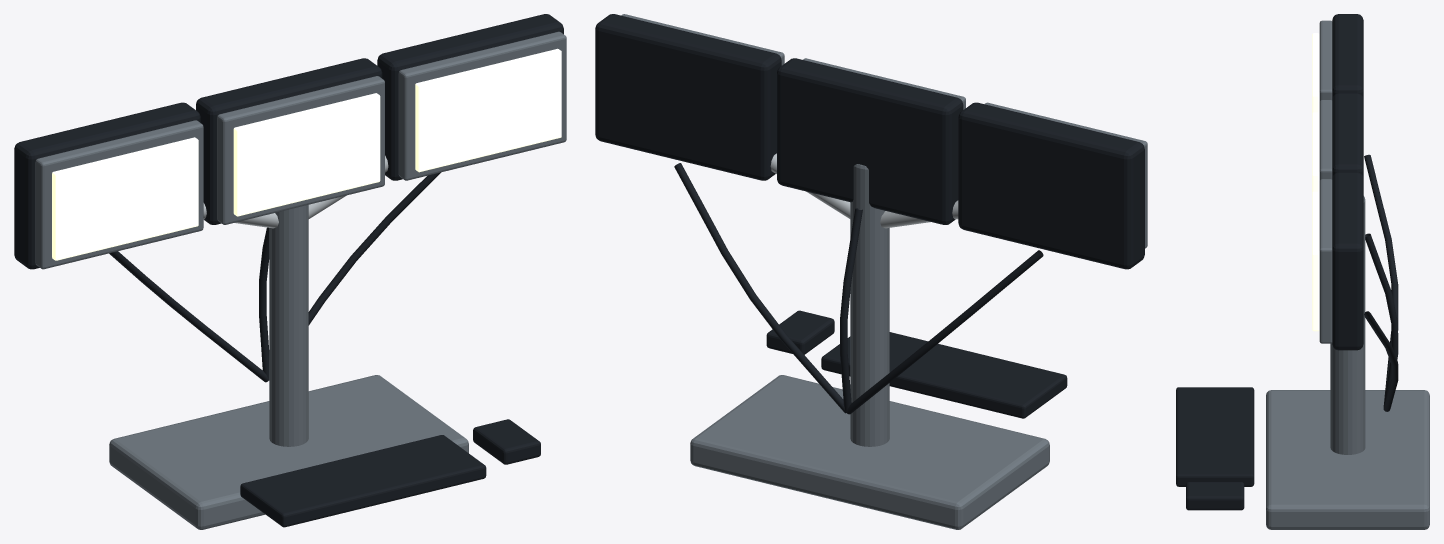
The model's file is prop_casino_security_monitor_wall_a_v01.glb.
The picture shows the model from 3 angles, left to right: view 1: azimuth 30°, elevation 25°; view 2: azimuth 150°, elevation 25°; view 3: azimuth 270°, elevation 25°; orthographic projection. The views are drawn at different scales.
Parts seen in each view (by area): view 1: component__desk_or_mounting_base__mounting_base, component__multiple_displays__display.002, component__multiple_displays__display.001, component__multiple_displays__display, component__input_devices__keyboard, component__monitor_arms__central_monitor_post, component__rear_housings__rear_housing.001, component__bezels__display_bezel, component__bezels__display_bezel.001, component__bezels__display_bezel.002, component__rear_housings__rear_housing, component__rear_housings__rear_housing.002 (+4 smaller); view 2: component__desk_or_mounting_base__mounting_base, component__rear_housings__rear_housing.001, component__rear_housings__rear_housing, component__rear_housings__rear_housing.002, component__monitor_arms__central_monitor_post, component__input_devices__keyboard, component__cables__monitor_cable, component__cables__monitor_cable.001, component__input_devices__mouse, component__cables__monitor_cable.002, component__bezels__display_bezel.001; view 3: component__desk_or_mounting_base__mounting_base, component__input_devices__keyboard, component__rear_housings__rear_housing, component__monitor_arms__central_monitor_post, component__rear_housings__rear_housing.002, component__rear_housings__rear_housing.001, component__bezels__display_bezel, component__input_devices__mouse, component__cables__monitor_cable.001, component__multiple_displays__display, component__bezels__display_bezel.001, component__bezels__display_bezel.002 (+4 smaller).
Part boxes in pixels (bbox=[...]): component__desk_or_mounting_base__mounting_base: bbox=[109, 375, 468, 529]; component__multiple_displays__display.002: bbox=[233, 93, 380, 216]; component__multiple_displays__display.001: bbox=[52, 137, 198, 260]; component__multiple_displays__display: bbox=[415, 48, 561, 172]; component__input_devices__keyboard: bbox=[240, 435, 486, 527]; component__monitor_arms__central_monitor_post: bbox=[269, 205, 308, 446]; component__rear_housings__rear_housing.001: bbox=[14, 102, 200, 269]; component__bezels__display_bezel: bbox=[398, 31, 566, 180]; component__bezels__display_bezel.001: bbox=[35, 120, 203, 269]; component__bezels__display_bezel.002: bbox=[217, 76, 384, 224]; component__rear_housings__rear_housing: bbox=[377, 14, 563, 180]; component__rear_housings__rear_housing.002: bbox=[196, 58, 382, 224]; component__desk_or_mounting_base__mounting_base: bbox=[690, 375, 1049, 529]; component__rear_housings__rear_housing.001: bbox=[958, 102, 1144, 269]; component__rear_housings__rear_housing: bbox=[595, 14, 781, 180]; component__rear_housings__rear_housing.002: bbox=[777, 58, 963, 224]; component__monitor_arms__central_monitor_post: bbox=[850, 164, 889, 446]; component__input_devices__keyboard: bbox=[821, 332, 1067, 418]; component__cables__monitor_cable: bbox=[674, 163, 846, 413]; component__cables__monitor_cable.001: bbox=[846, 250, 1043, 414]; component__input_devices__mouse: bbox=[766, 310, 834, 354]; component__cables__monitor_cable.002: bbox=[840, 208, 862, 412]; component__bezels__display_bezel.001: bbox=[984, 102, 1147, 248]; component__desk_or_mounting_base__mounting_base: bbox=[1266, 390, 1429, 529]; component__input_devices__keyboard: bbox=[1176, 387, 1254, 486]; component__rear_housings__rear_housing: bbox=[1332, 172, 1363, 350]; component__monitor_arms__central_monitor_post: bbox=[1330, 196, 1365, 454]; component__rear_housings__rear_housing.002: bbox=[1332, 93, 1363, 178]; component__rear_housings__rear_housing.001: bbox=[1332, 14, 1363, 98]; component__bezels__display_bezel: bbox=[1319, 179, 1332, 343]; component__input_devices__mouse: bbox=[1186, 482, 1244, 510]; component__cables__monitor_cable.001: bbox=[1364, 154, 1398, 406]; component__multiple_displays__display: bbox=[1312, 191, 1319, 331]; component__bezels__display_bezel.001: bbox=[1319, 20, 1332, 101]; component__bezels__display_bezel.002: bbox=[1319, 100, 1332, 180].
Size of the model in its own units: 1.42 by 0.97 by 0.65.
